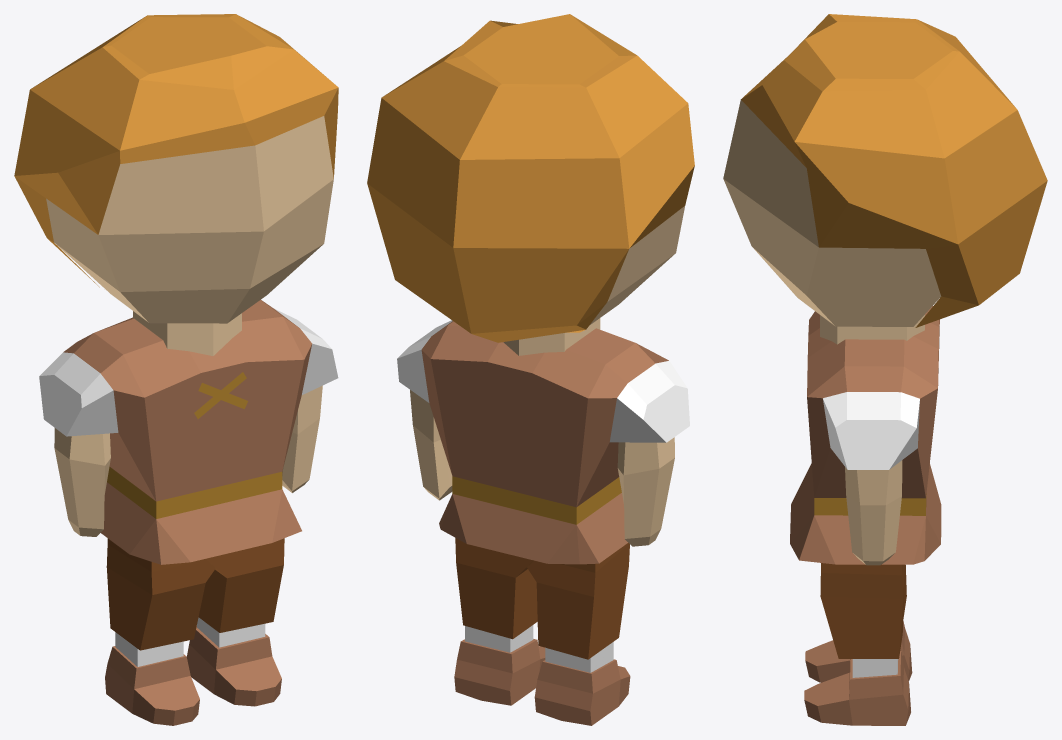
The model's file is maleIdle.gltf.
The picture shows the model from 3 angles, left to right: view 1: azimuth 30°, elevation 25°; view 2: azimuth 150°, elevation 25°; view 3: azimuth 270°, elevation 25°; orthographic projection.
Visible parts, largest first — view 1: Male; view 2: Male; view 3: Male.
Boxes of the visible parts, bbox=[...] form: Male: bbox=[14, 14, 338, 725]; Male: bbox=[367, 14, 694, 725]; Male: bbox=[723, 14, 1047, 725].
Size of the model in its own units: 0.7209 by 1.63 by 0.7311.
Materials: 1 (1 with a texture image).
